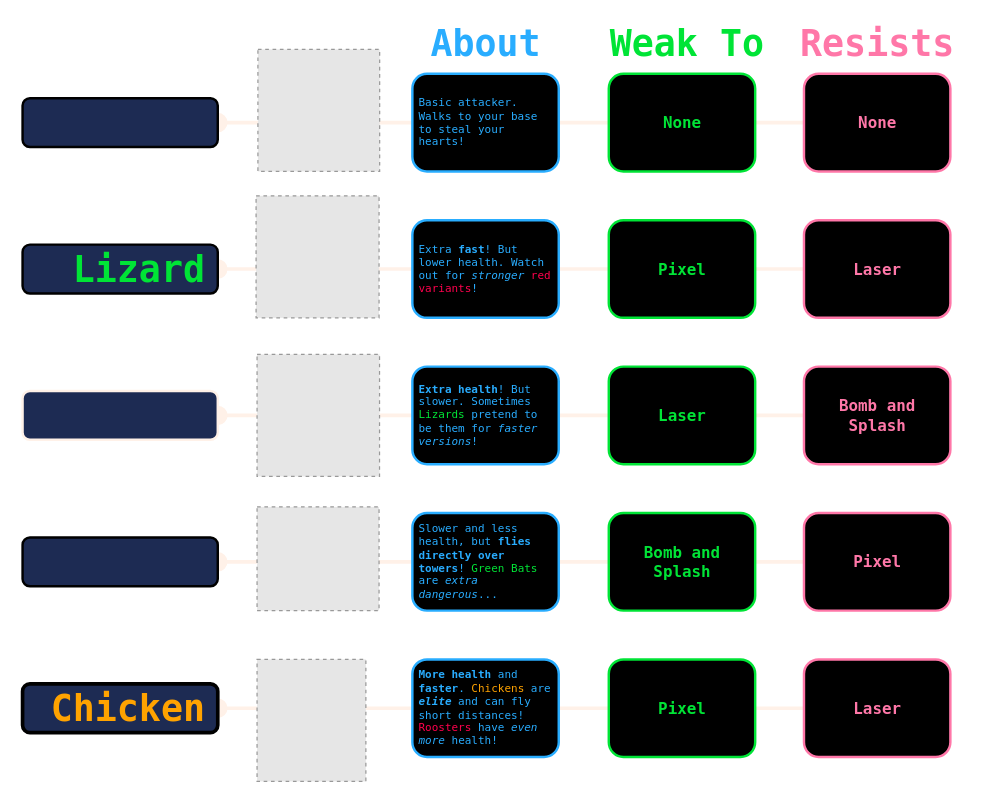
The diagram is 992 pixels wide and 803 high, and some of its shapes have lost their labels. Grey dashed boxes stand in for pictures. Here are the shapes that lost their labels. From the top down, the centre of each, then its label:
the point at 119,122: Walker
the point at 119,414: Knight
the point at 119,561: Bat
